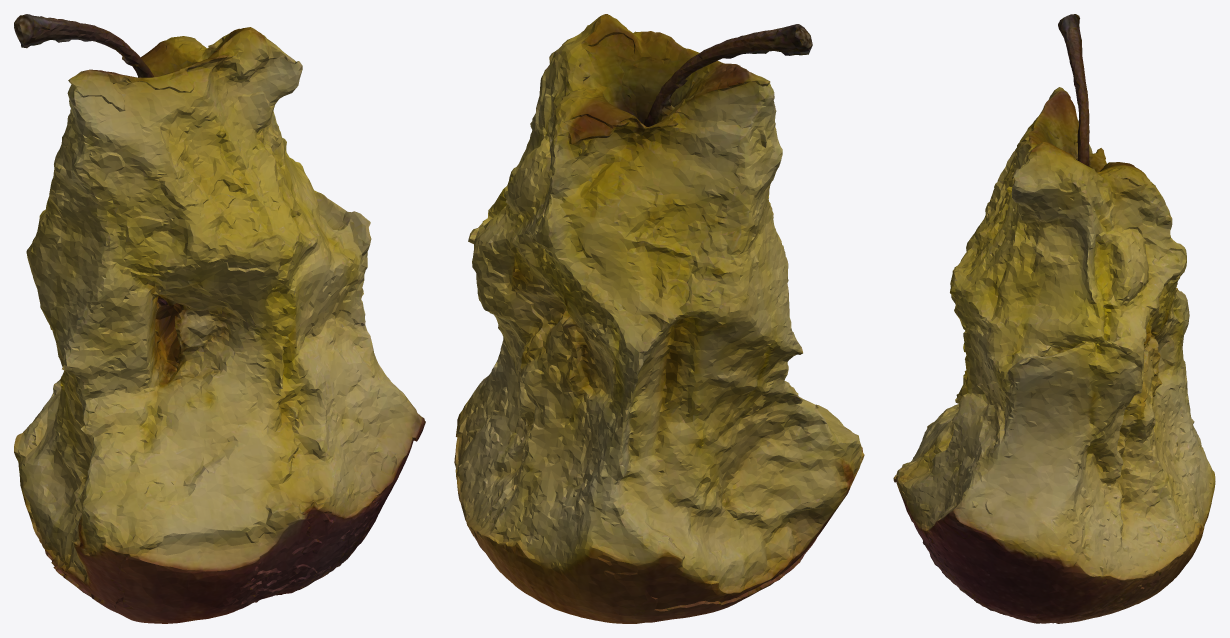
The picture shows the model from 3 angles, left to right: view 1: azimuth 30°, elevation 25°; view 2: azimuth 150°, elevation 25°; view 3: azimuth 270°, elevation 25°; orthographic projection. The views are drawn at different scales.
Parts seen in each view (by area): view 1: Apple_09_Apple_9_u1_v1_0; view 2: Apple_09_Apple_9_u1_v1_0; view 3: Apple_09_Apple_9_u1_v1_0.
Part boxes in pixels (<box>): Apple_09_Apple_9_u1_v1_0: <box>14,14,425,623</box>; Apple_09_Apple_9_u1_v1_0: <box>454,14,864,623</box>; Apple_09_Apple_9_u1_v1_0: <box>893,14,1215,623</box>.
Size of the model in its own units: 22.19 by 35.43 by 20.64.
1 material, 1 textured.
